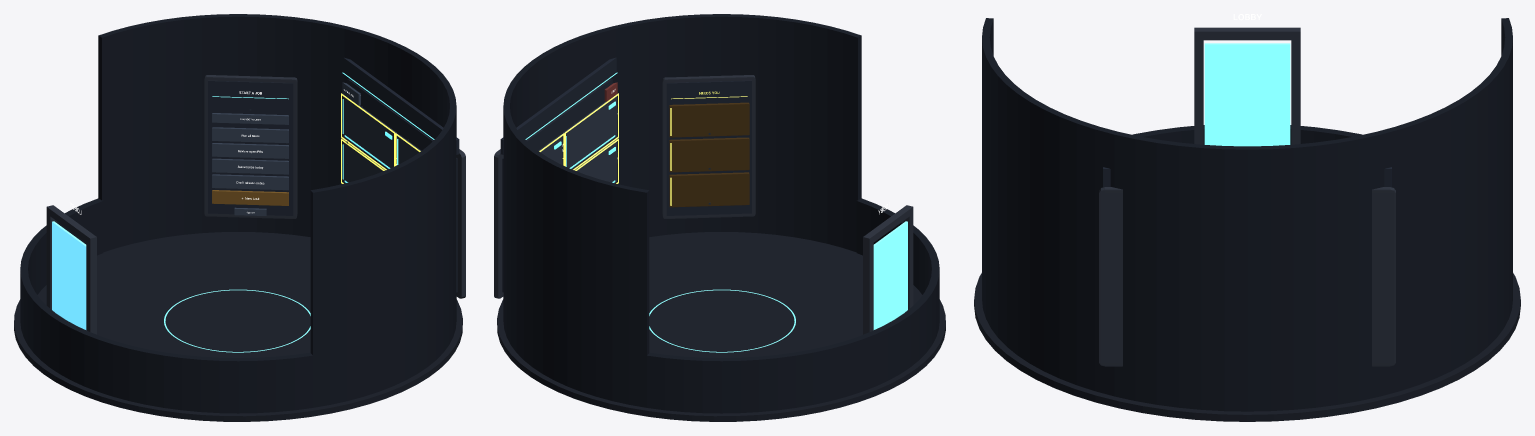
File: world.glb
The picture shows the model from 3 angles, left to right: view 1: azimuth 30°, elevation 25°; view 2: azimuth 150°, elevation 25°; view 3: azimuth 270°, elevation 25°; orthographic projection. The views are drawn at different scales.
Parts seen in each view (by area): view 1: BackWall, Floor, Parapet, LeftFrame, CenterFrame, DoorLobby, DoorArch, CardA, LockPanel, BtnToday, BtnNotes, BtnTests (+5 smaller); view 2: BackWall, Floor, Parapet, RightFrame, CenterFrame, DoorLobby, NeedB, NeedA, NeedC, DoorArch, CardB, LockPanel (+2 smaller); view 3: BackWall, DoorLobby, CenterFrame, Floor, DoorArch, Parapet.
Part boxes in pixels (bbox=[...]): BackWall: bbox=[98, 14, 456, 407]; Floor: bbox=[14, 232, 462, 421]; Parapet: bbox=[20, 198, 312, 413]; LeftFrame: bbox=[204, 75, 297, 218]; CenterFrame: bbox=[342, 57, 465, 298]; DoorLobby: bbox=[52, 221, 86, 329]; DoorArch: bbox=[46, 202, 96, 334]; CardA: bbox=[342, 96, 397, 169]; LockPanel: bbox=[347, 79, 457, 292]; BtnToday: bbox=[212, 158, 288, 174]; BtnNotes: bbox=[212, 174, 288, 190]; BtnTests: bbox=[212, 127, 288, 143]; BackWall: bbox=[503, 14, 861, 407]; Floor: bbox=[497, 232, 945, 421]; Parapet: bbox=[647, 198, 939, 413]; RightFrame: bbox=[662, 75, 755, 218]; CenterFrame: bbox=[494, 57, 617, 298]; DoorLobby: bbox=[873, 221, 907, 329]; NeedB: bbox=[669, 137, 749, 172]; NeedA: bbox=[669, 102, 749, 137]; NeedC: bbox=[669, 172, 749, 207]; DoorArch: bbox=[863, 202, 913, 334]; CardB: bbox=[562, 96, 617, 169]; LockPanel: bbox=[502, 79, 612, 292]; BackWall: bbox=[982, 18, 1512, 411]; DoorLobby: bbox=[1204, 43, 1290, 146]; CenterFrame: bbox=[1099, 167, 1395, 366]; Floor: bbox=[974, 273, 1520, 421]; DoorArch: bbox=[1194, 14, 1300, 144]; Parapet: bbox=[1132, 125, 1362, 144].
Size of the model in its own units: 7 by 3.8 by 7.
